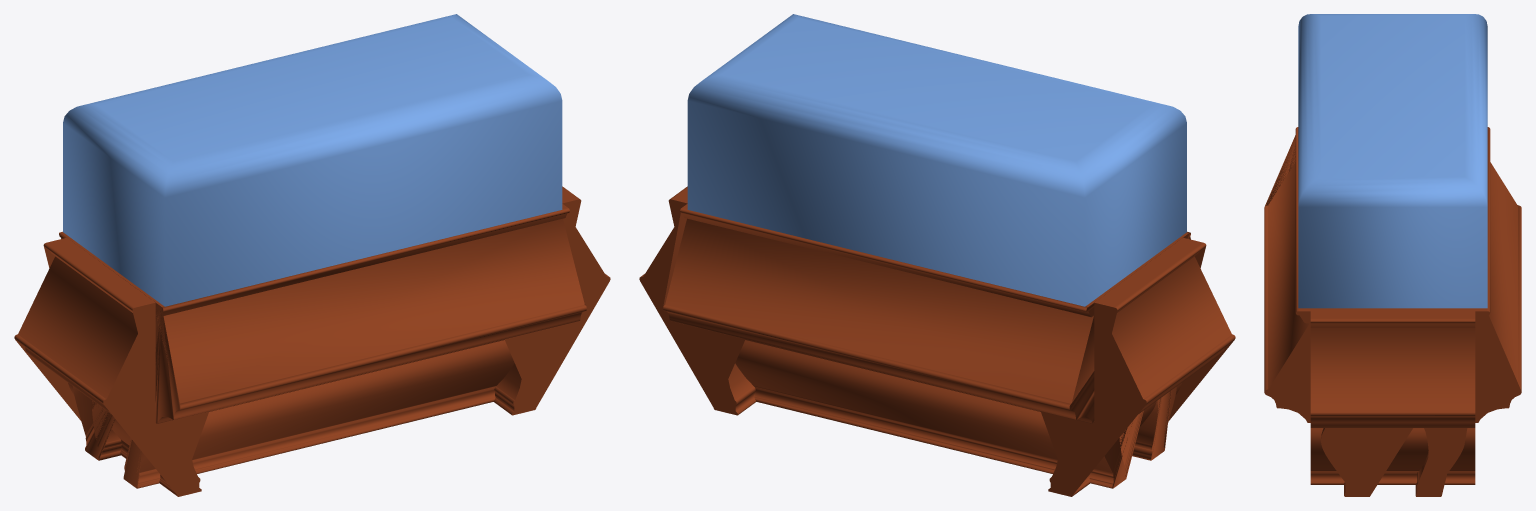
File: table_long.fbx
The picture shows the model from 3 angles, left to right: view 1: azimuth 30°, elevation 25°; view 2: azimuth 150°, elevation 25°; view 3: azimuth 270°, elevation 25°; orthographic projection. The views are drawn at different scales.
Parts seen in each view (by area): view 1: table; view 2: table; view 3: table.
Part boxes in pixels (x1,y1,x2,y2): table: [14, 14, 610, 496]; table: [639, 14, 1235, 496]; table: [1264, 14, 1521, 496].
Size of the model in its own units: 523 by 326 by 247.
